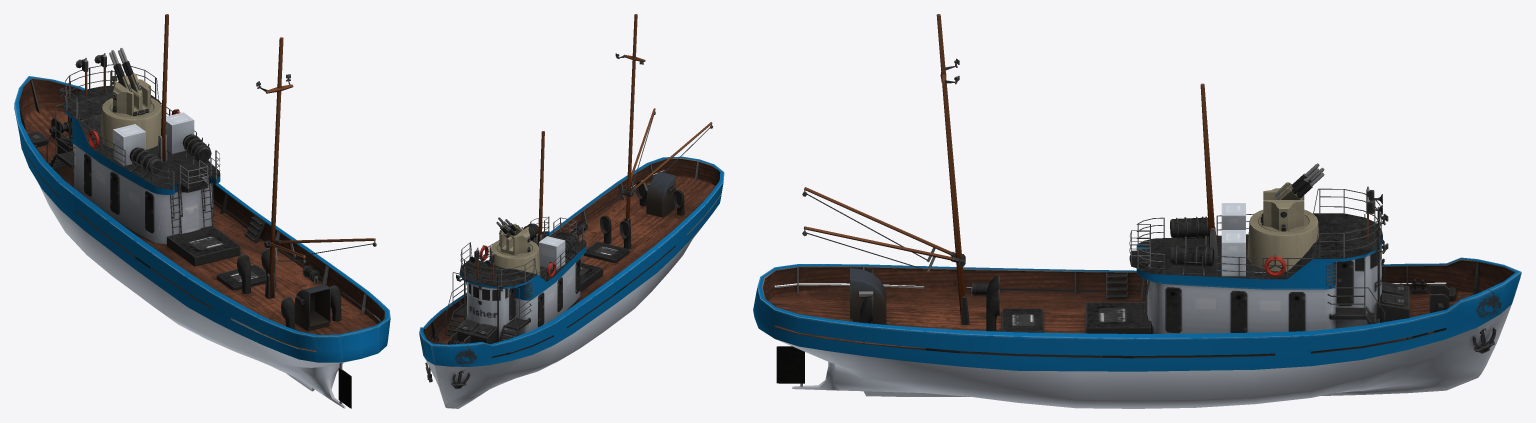
Rendered from Boat1.fbx.
3 renders of one model, left to right at view 1: azimuth 30°, elevation 25°; view 2: azimuth 150°, elevation 25°; view 3: azimuth 270°, elevation 25°, orthographic. The views are drawn at different scales.
Parts seen in each view (by area): view 1: Boat, GunBase, GunMount, Barrels; view 2: Boat, GunBase, GunMount, Barrels; view 3: Boat, GunBase, GunMount, Barrels.
Boxes of the visible parts, <box> form: Boat: <box>14,14,390,408</box>; GunBase: <box>101,98,161,149</box>; GunMount: <box>110,79,153,116</box>; Barrels: <box>109,48,142,96</box>; Boat: <box>419,14,724,408</box>; GunBase: <box>490,240,540,275</box>; GunMount: <box>497,223,532,255</box>; Barrels: <box>496,217,522,238</box>; Boat: <box>753,14,1521,408</box>; GunBase: <box>1247,209,1318,271</box>; GunMount: <box>1258,188,1308,231</box>; Barrels: <box>1273,163,1324,199</box>.
Size of the model in its own units: 6.12 by 15.83 by 28.89.
Materials: 2 (2 with a texture image).
